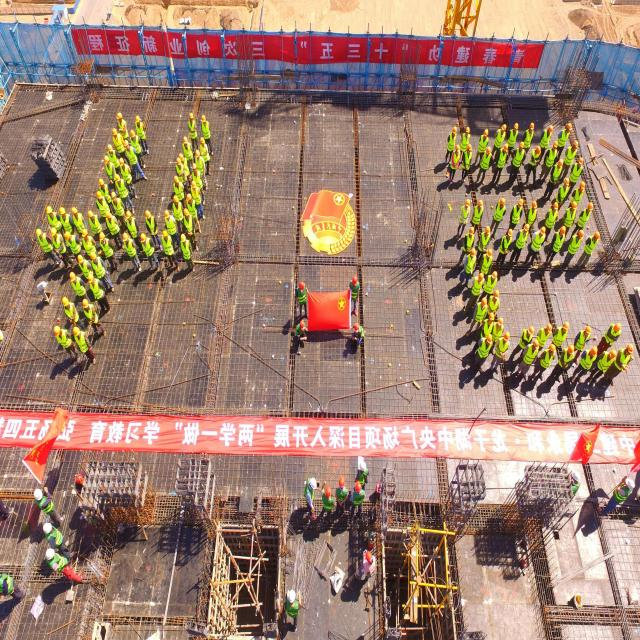Reflective-Jacket: (42, 497, 54, 512), (5, 576, 14, 593), (298, 288, 307, 304)
Safety-Helmet: (287, 588, 297, 603), (365, 550, 373, 563), (351, 274, 359, 286), (34, 489, 42, 501)
